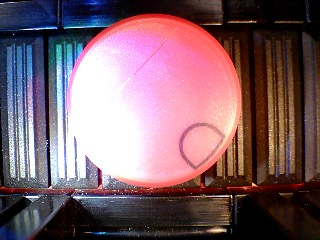MIPO1: (66, 13, 243, 188)
